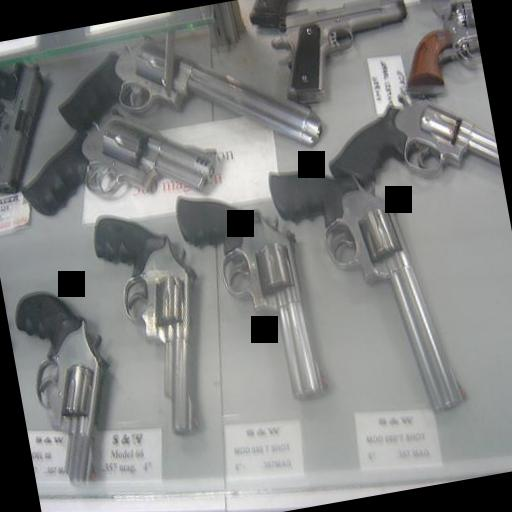Handgun: (262, 142, 475, 440), (50, 6, 326, 182), (170, 174, 325, 418), (90, 198, 224, 448), (10, 96, 222, 220), (6, 280, 126, 487), (317, 82, 496, 189), (265, 0, 420, 105), (0, 54, 61, 200)
